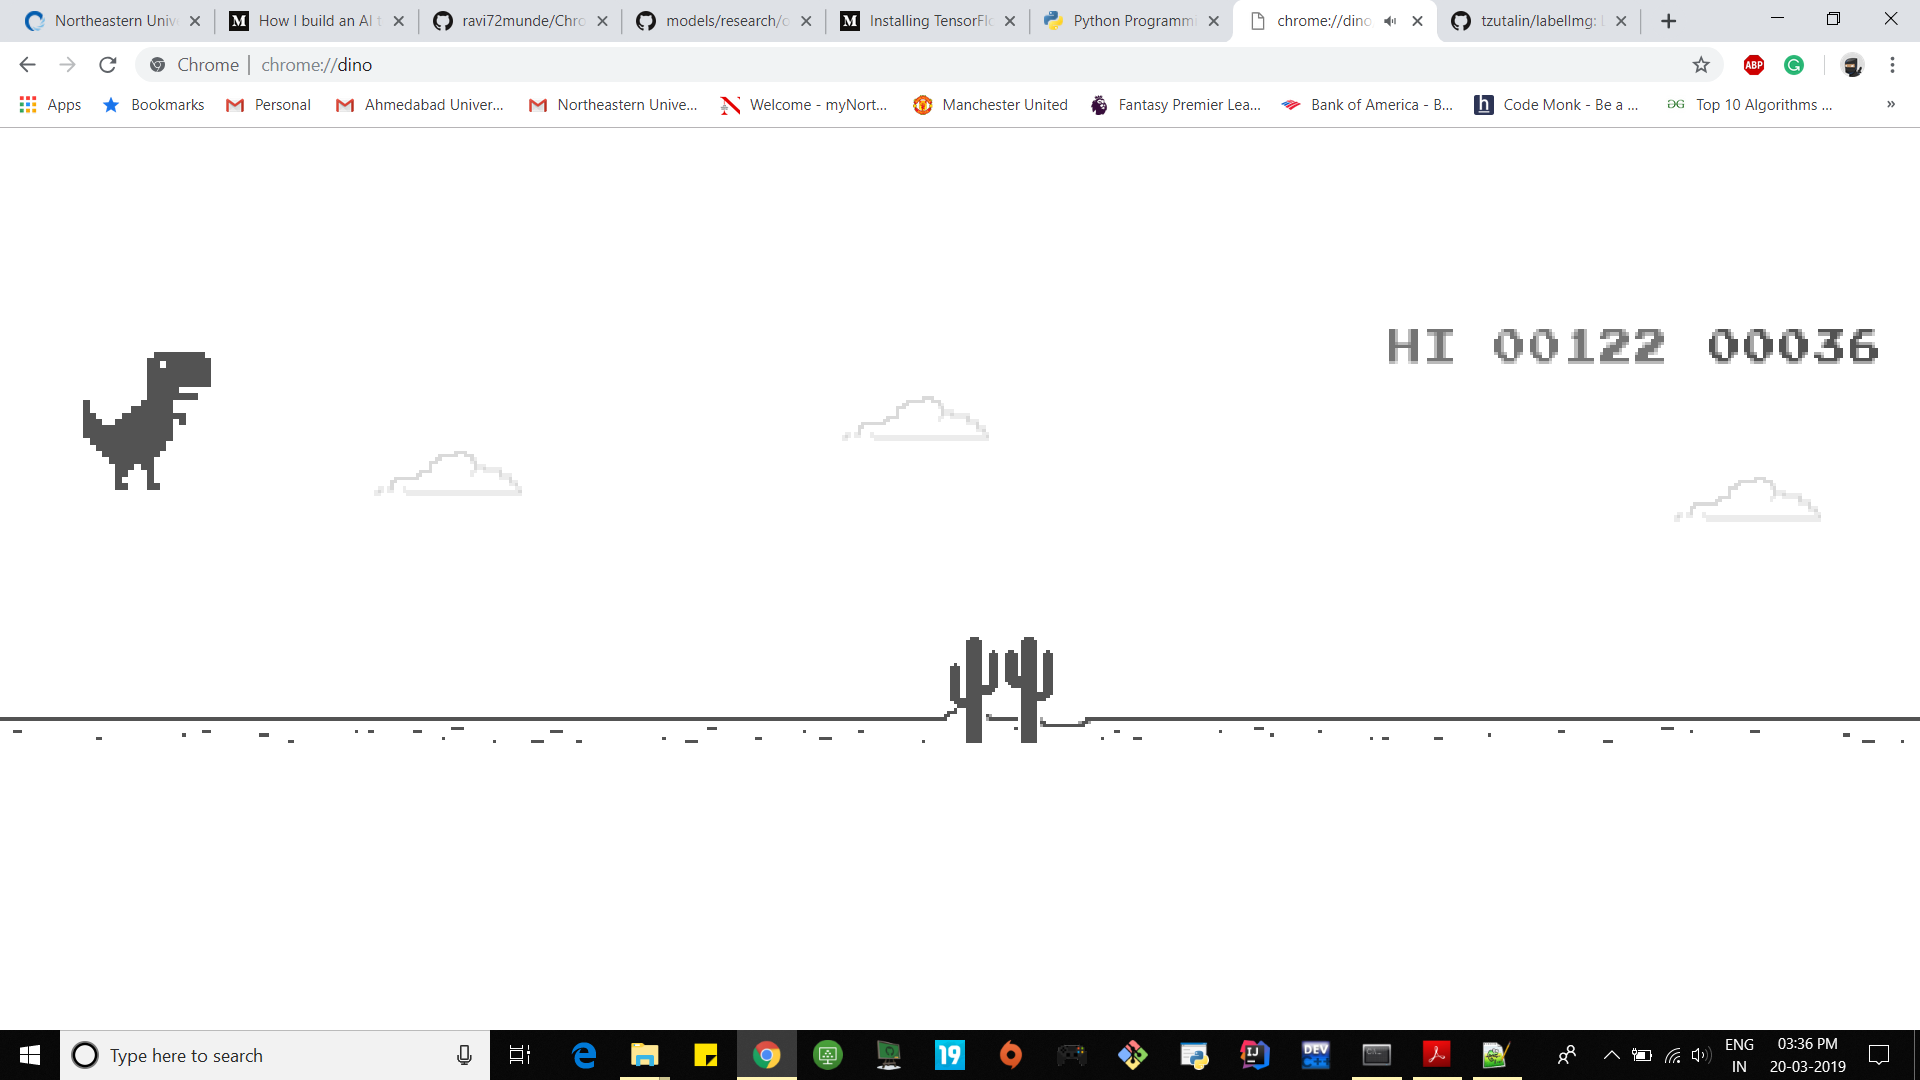cactus-2: (947, 636, 1055, 745)
dino: (82, 349, 212, 492)
